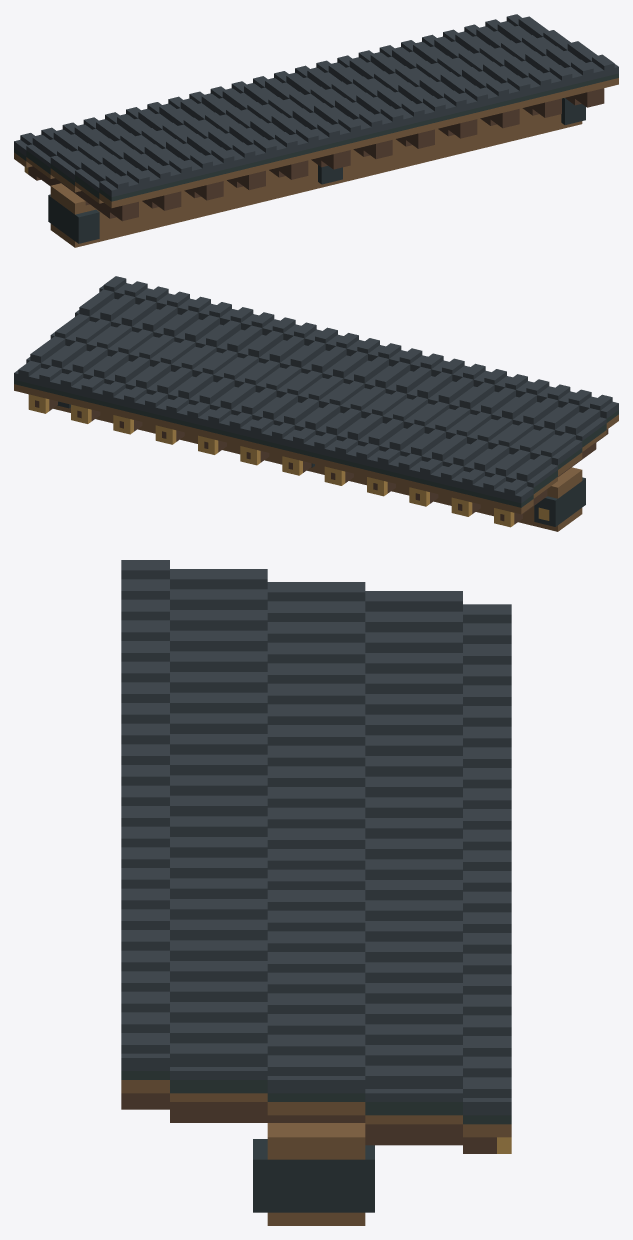
The model's file is BUILT-246.glb.
3 renders of one model, top to bottom at view 1: azimuth 30°, elevation 25°; view 2: azimuth 150°, elevation 25°; view 3: azimuth 270°, elevation 25°, orthographic. The views are drawn at different scales.
Visible parts, largest first — view 1: 薄瓦檐梁椽母版A2; view 2: 薄瓦檐梁椽母版A2; view 3: 薄瓦檐梁椽母版A2.
Part boxes in pixels (left/top/right/bottom): 薄瓦檐梁椽母版A2: left=14, top=14, right=618, bottom=247; 薄瓦檐梁椽母版A2: left=14, top=276, right=618, bottom=531; 薄瓦檐梁椽母版A2: left=121, top=560, right=511, bottom=1225.
Size of the model in its own units: 4.8 by 0.8 by 1.6.
Materials: 6 (6 with a texture image).
